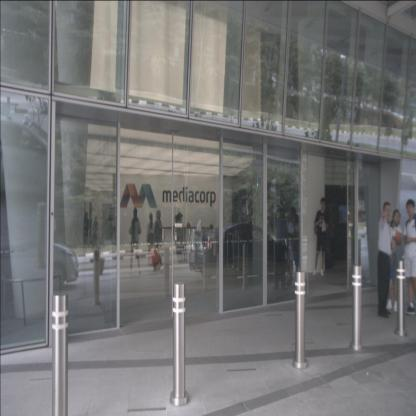human-pedestrian-adult: (377, 200, 394, 319), (386, 209, 403, 313), (270, 206, 290, 292), (402, 198, 416, 316), (312, 197, 329, 277), (148, 210, 165, 274), (128, 207, 142, 276), (286, 206, 298, 286), (292, 214, 304, 283), (145, 212, 156, 268), (184, 221, 195, 256), (208, 224, 217, 258), (82, 212, 90, 249), (92, 213, 100, 249), (106, 213, 114, 242)
vehicle-car: (188, 221, 291, 283), (0, 225, 79, 293)
